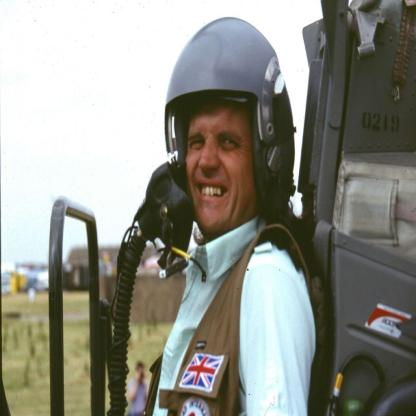Helmet: (162, 14, 297, 220)
